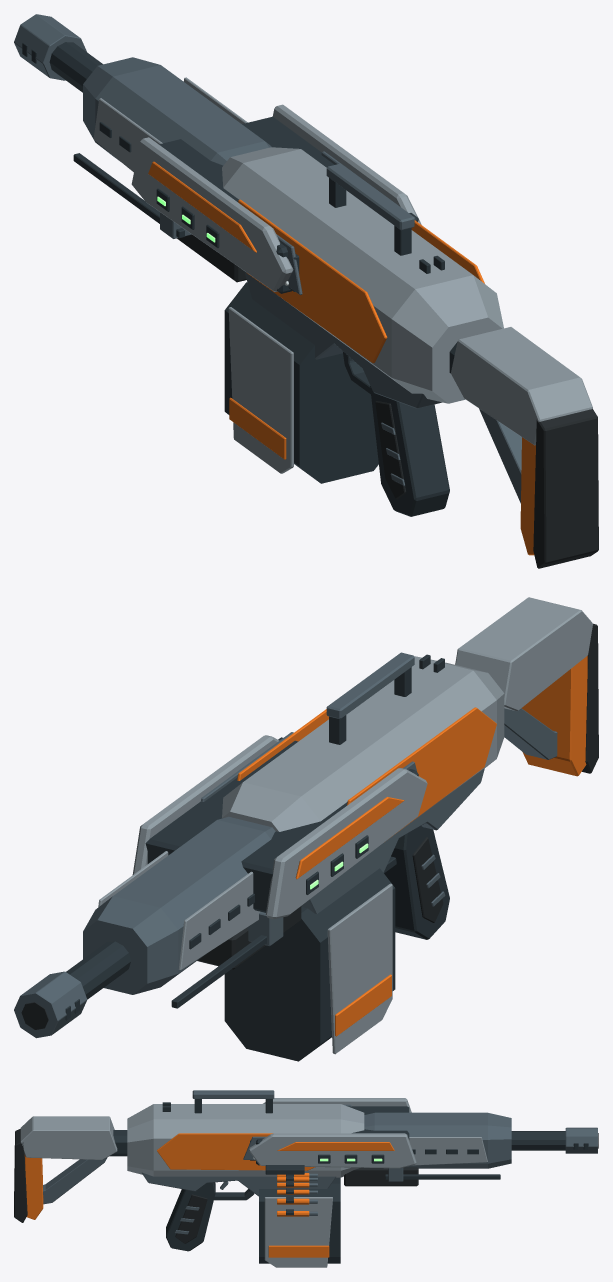
The model's file is energyshotgun.glb.
The picture shows the model from 3 angles, top to bottom: view 1: azimuth 30°, elevation 25°; view 2: azimuth 150°, elevation 25°; view 3: azimuth 270°, elevation 25°; orthographic projection. The views are drawn at different scales.
Visible parts, largest first — view 1: Body | 01 | ceramic gray receiver, Body | 02 | machined edge metal, Body | 03 | graphite steel, Body | 05 | charcoal grip polymer, Magazine | 03 | graphite steel, Body | 04 | burnt orange enamel, Magazine | 01 | ceramic gray receiver, Magazine | 04 | burnt orange enamel; view 2: Body | 01 | ceramic gray receiver, Body | 02 | machined edge metal, Body | 03 | graphite steel, Magazine | 03 | graphite steel, Body | 04 | burnt orange enamel, Magazine | 01 | ceramic gray receiver, Body | 05 | charcoal grip polymer, Magazine | 04 | burnt orange enamel; view 3: Body | 01 | ceramic gray receiver, Body | 02 | machined edge metal, Body | 03 | graphite steel, Body | 04 | burnt orange enamel, Magazine | 01 | ceramic gray receiver, Body | 05 | charcoal grip polymer, Magazine | 03 | graphite steel, Magazine | 04 | burnt orange enamel.
Part boxes in pixels (bbox=[...]): Body | 01 | ceramic gray receiver: bbox=[93, 77, 592, 445]; Body | 02 | machined edge metal: bbox=[14, 14, 521, 503]; Body | 03 | graphite steel: bbox=[22, 42, 457, 516]; Body | 05 | charcoal grip polymer: bbox=[177, 234, 598, 568]; Magazine | 03 | graphite steel: bbox=[224, 282, 378, 483]; Body | 04 | burnt orange enamel: bbox=[148, 161, 535, 555]; Magazine | 01 | ceramic gray receiver: bbox=[228, 307, 293, 473]; Magazine | 04 | burnt orange enamel: bbox=[229, 397, 286, 459]; Body | 01 | ceramic gray receiver: bbox=[98, 597, 592, 970]; Body | 02 | machined edge metal: bbox=[14, 652, 557, 1038]; Body | 03 | graphite steel: bbox=[65, 654, 449, 1020]; Magazine | 03 | graphite steel: bbox=[224, 868, 395, 1061]; Body | 04 | burnt orange enamel: bbox=[237, 656, 587, 879]; Magazine | 01 | ceramic gray receiver: bbox=[327, 883, 392, 1054]; Body | 05 | charcoal grip polymer: bbox=[21, 623, 598, 1029]; Magazine | 04 | burnt orange enamel: bbox=[335, 974, 391, 1036]; Body | 01 | ceramic gray receiver: bbox=[20, 1098, 487, 1177]; Body | 02 | machined edge metal: bbox=[43, 1090, 597, 1234]; Body | 03 | graphite steel: bbox=[109, 1099, 588, 1251]; Body | 04 | burnt orange enamel: bbox=[24, 1133, 394, 1219]; Magazine | 01 | ceramic gray receiver: bbox=[264, 1197, 332, 1267]; Body | 05 | charcoal grip polymer: bbox=[14, 1129, 598, 1243]; Magazine | 03 | graphite steel: bbox=[259, 1177, 340, 1263]; Magazine | 04 | burnt orange enamel: bbox=[268, 1245, 329, 1257].
Bounding box in the file's own units: 0.2404 × 0.345 × 1.11.
